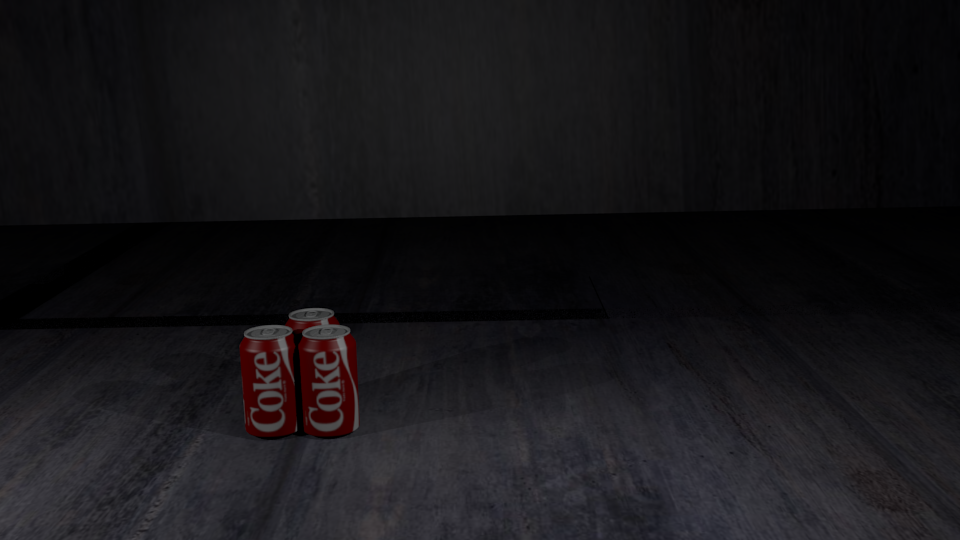cola_can: (240, 325, 300, 434), (298, 325, 357, 433), (285, 308, 338, 411)
